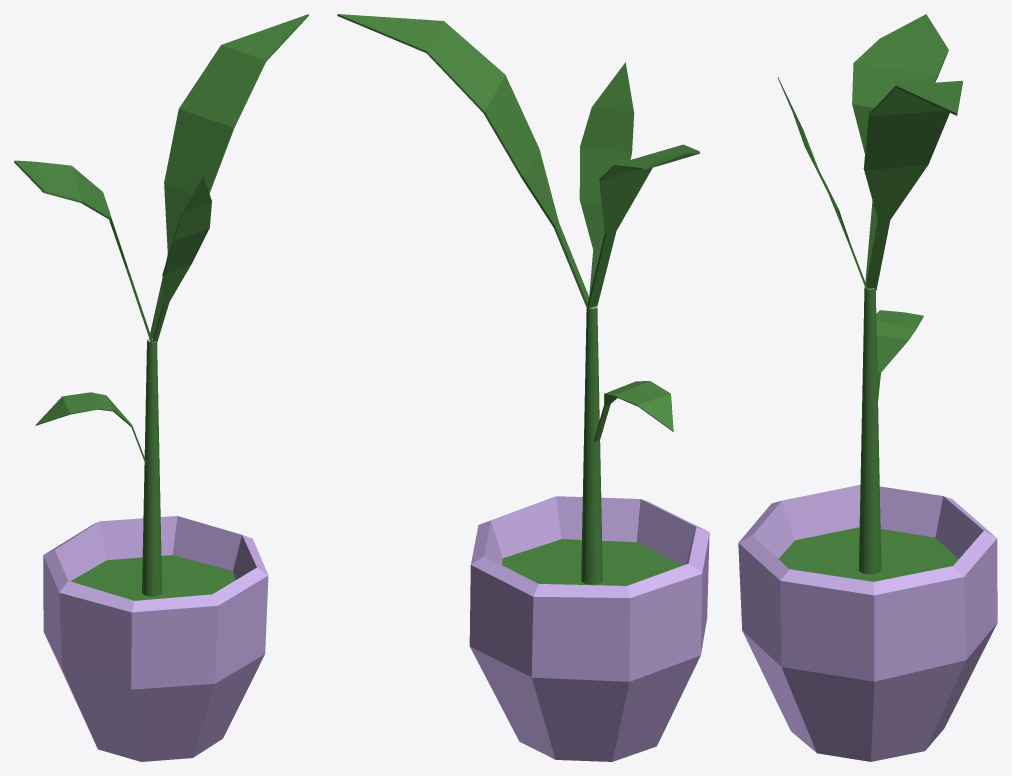
The model's file is Yogaroom_flower2.fbx.
3 renders of one model, left to right at view 1: azimuth 30°, elevation 25°; view 2: azimuth 150°, elevation 25°; view 3: azimuth 270°, elevation 25°, orthographic. The views are drawn at different scales.
Parts seen in each view (by area): view 1: Yogaroom_flower2; view 2: Yogaroom_flower2; view 3: Yogaroom_flower2.
Part boxes in pixels (box(x1,y1,x2,y2)): Yogaroom_flower2: box(14, 14, 308, 761); Yogaroom_flower2: box(337, 14, 709, 761); Yogaroom_flower2: box(738, 14, 997, 761).
Size of the model in its own units: 108 by 215 by 69.97.
